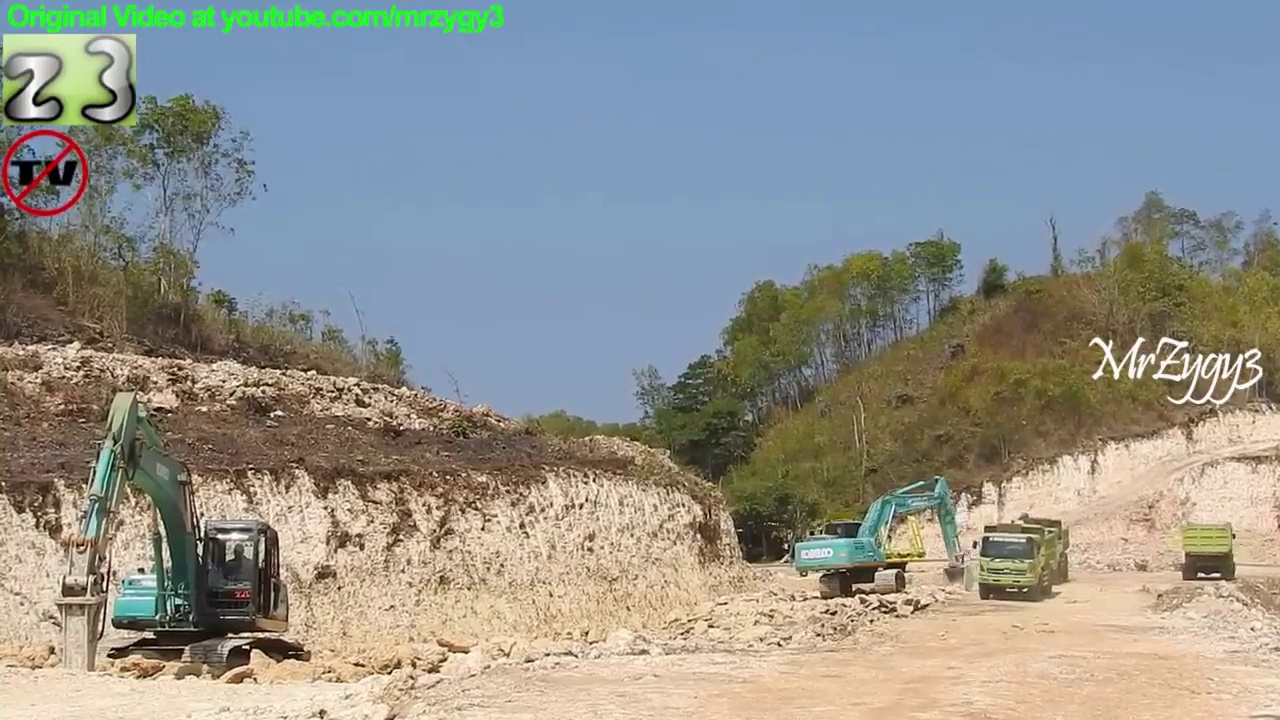excavator: (792, 474, 975, 607)
excavator breaker: (55, 386, 315, 686)
truck: (971, 523, 1065, 606), (988, 510, 1074, 596), (1175, 517, 1243, 583)
